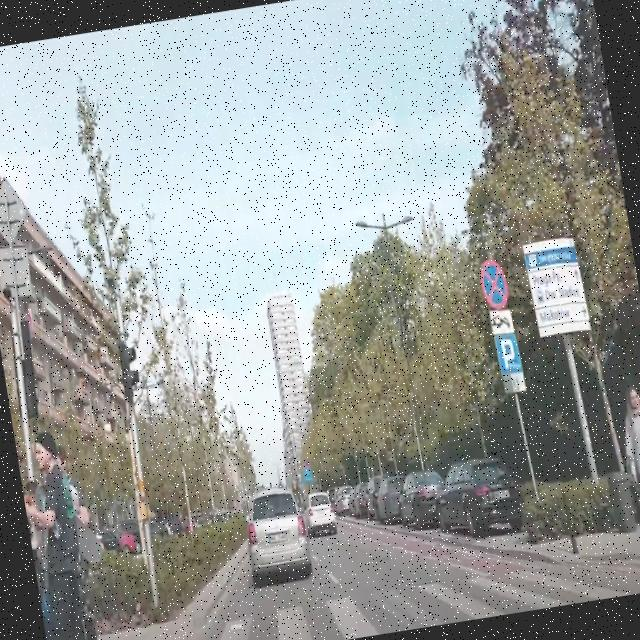Zakaz zatrzymywania sie: (476, 258, 512, 312)
